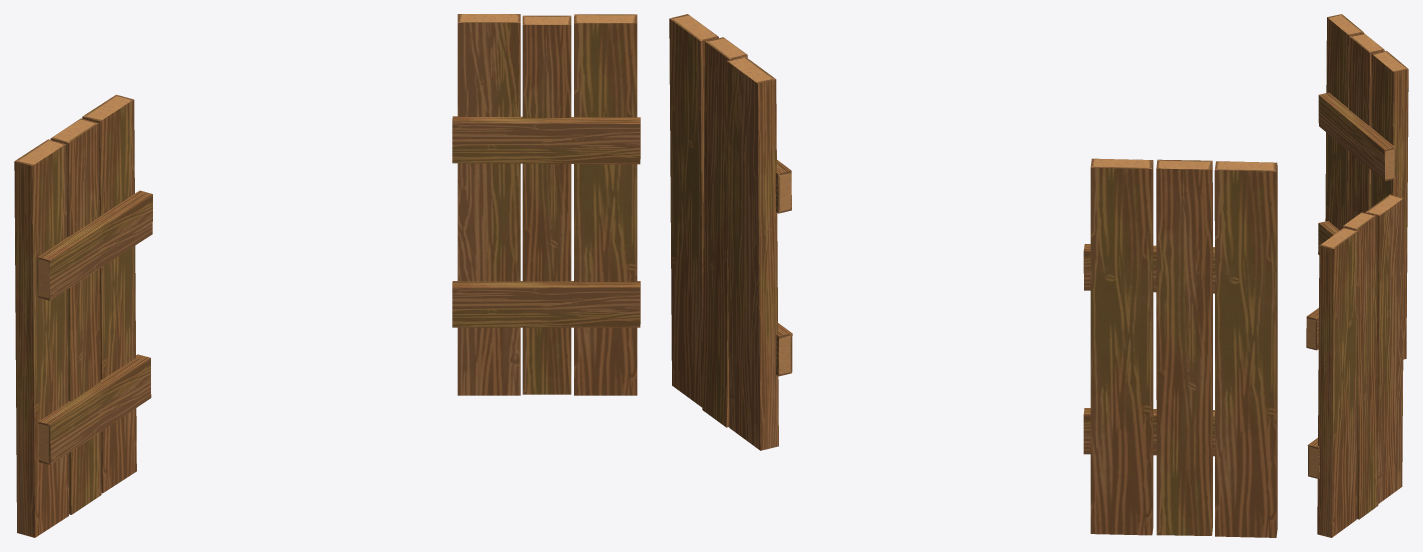
The model's file is WindowShutters_Wide_Flat_Open.glb.
3 renders of one model, left to right at view 1: azimuth 30°, elevation 25°; view 2: azimuth 150°, elevation 25°; view 3: azimuth 270°, elevation 25°, orthographic. The views are drawn at different scales.
Parts seen in each view (by area): view 1: WindowShutters_Wide_Flat_Open; view 2: WindowShutters_Wide_Flat_Open; view 3: WindowShutters_Wide_Flat_Open.
Part boxes in pixels (bbox=[...]): WindowShutters_Wide_Flat_Open: bbox=[14, 14, 640, 537]; WindowShutters_Wide_Flat_Open: bbox=[669, 14, 1277, 537]; WindowShutters_Wide_Flat_Open: bbox=[1306, 14, 1408, 537].
Size of the model in its own units: 2.48 by 1.42 by 0.4563.
1 material, 1 textured.
